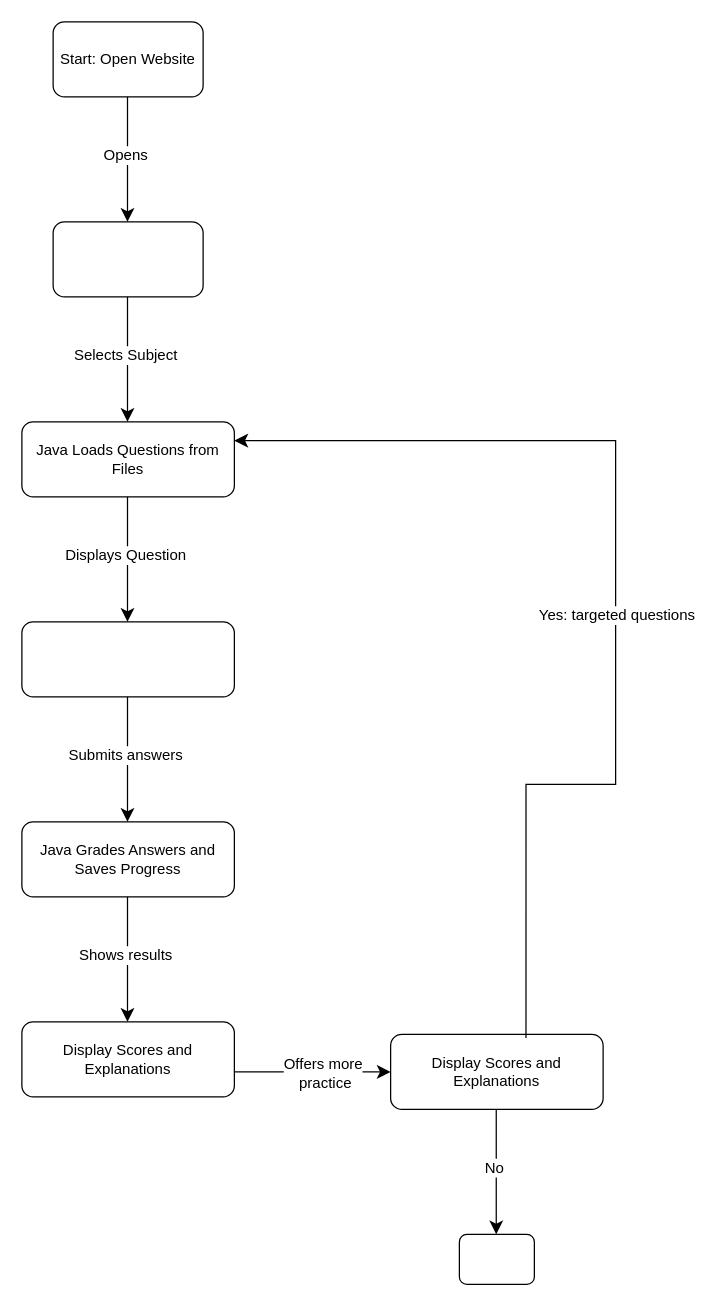
Image size: 716x1306. Some labels were removed from this diagram. The shapes that lost their labels are listed below. From the top down, each one's centre as x and y in pixels, then its label:
At point 127,259: "Choose Math or Reading & Writing".
At point 127,659: "Student Answers Quiz".
At point 496,1258: "End".
